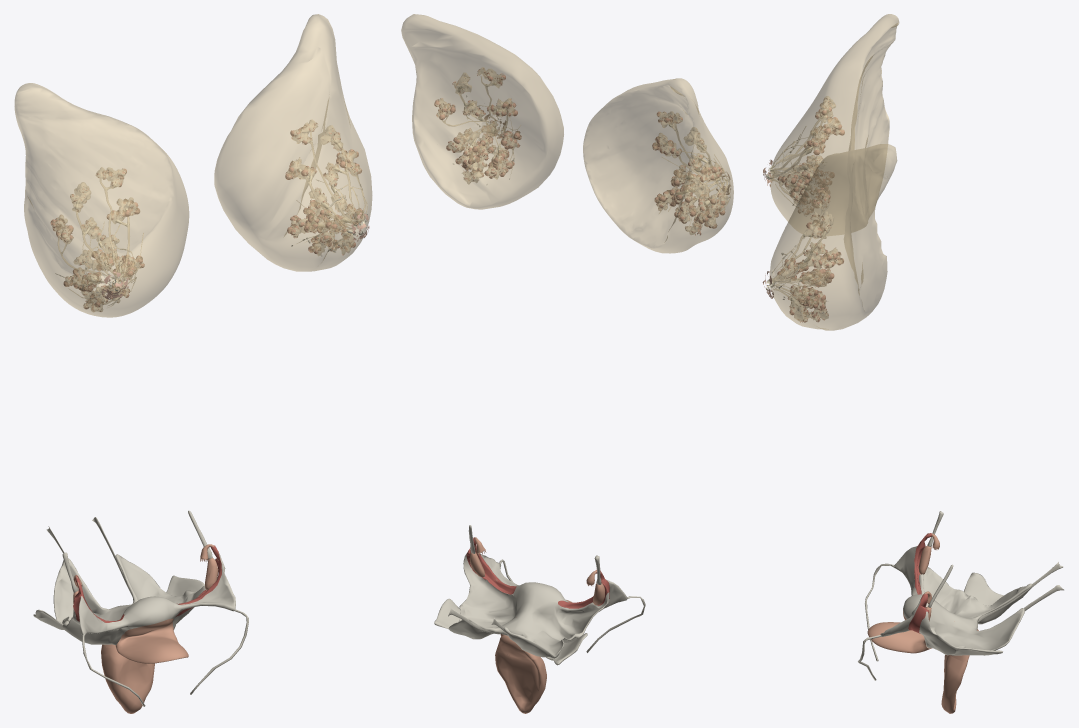
File: adult_female.reproductive.LOD2.glb
3 views of the same model, side by side, from view 1: azimuth 30°, elevation 25°; view 2: azimuth 150°, elevation 25°; view 3: azimuth 270°, elevation 25° (orthographic). The views are drawn at different scales.
Visible parts, largest first — view 1: ADULT.FEMALE.REPRODUCTIVE.MAMMARY_FAT.R, ADULT.FEMALE.REPRODUCTIVE.MAMMARY_FAT.L, ADULT.FEMALE.REPRODUCTIVE.BROAD_LIGAMENT, ADULT.FEMALE.REPRODUCTIVE.VAGINA, ADULT.FEMALE.REPRODUCTIVE.UTEROVESICAL_POUCH, ADULT.FEMALE.REPRODUCTIVE.MAMMARY_LOBES.L, ADULT.FEMALE.REPRODUCTIVE.MAMMARY_LOBES.R; view 2: ADULT.FEMALE.REPRODUCTIVE.MAMMARY_FAT.L, ADULT.FEMALE.REPRODUCTIVE.MAMMARY_FAT.R, ADULT.FEMALE.REPRODUCTIVE.BROAD_LIGAMENT, ADULT.FEMALE.REPRODUCTIVE.VAGINA, ADULT.FEMALE.REPRODUCTIVE.MAMMARY_LOBES.L, ADULT.FEMALE.REPRODUCTIVE.MAMMARY_LOBES.R; view 3: ADULT.FEMALE.REPRODUCTIVE.MAMMARY_FAT.L, ADULT.FEMALE.REPRODUCTIVE.MAMMARY_FAT.R, ADULT.FEMALE.REPRODUCTIVE.BROAD_LIGAMENT, ADULT.FEMALE.REPRODUCTIVE.MAMMARY_LOBES.L, ADULT.FEMALE.REPRODUCTIVE.MAMMARY_LOBES.R, ADULT.FEMALE.REPRODUCTIVE.UTEROVESICAL_POUCH, ADULT.FEMALE.REPRODUCTIVE.VAGINA, ADULT.FEMALE.REPRODUCTIVE.CARDINAL_LIGAMENT_OF_UTERUS.R.
Boxes of the visible parts, <box> form: ADULT.FEMALE.REPRODUCTIVE.MAMMARY_FAT.R: <box>14,83,189,317</box>; ADULT.FEMALE.REPRODUCTIVE.MAMMARY_FAT.L: <box>214,14,372,271</box>; ADULT.FEMALE.REPRODUCTIVE.BROAD_LIGAMENT: <box>53,552,235,645</box>; ADULT.FEMALE.REPRODUCTIVE.VAGINA: <box>101,644,154,713</box>; ADULT.FEMALE.REPRODUCTIVE.UTEROVESICAL_POUCH: <box>115,618,188,663</box>; ADULT.FEMALE.REPRODUCTIVE.MAMMARY_LOBES.L: <box>285,123,362,255</box>; ADULT.FEMALE.REPRODUCTIVE.MAMMARY_LOBES.R: <box>50,168,144,311</box>; ADULT.FEMALE.REPRODUCTIVE.MAMMARY_FAT.L: <box>401,14,563,209</box>; ADULT.FEMALE.REPRODUCTIVE.MAMMARY_FAT.R: <box>583,78,733,253</box>; ADULT.FEMALE.REPRODUCTIVE.BROAD_LIGAMENT: <box>448,552,627,658</box>; ADULT.FEMALE.REPRODUCTIVE.VAGINA: <box>495,651,546,713</box>; ADULT.FEMALE.REPRODUCTIVE.MAMMARY_LOBES.L: <box>434,68,521,180</box>; ADULT.FEMALE.REPRODUCTIVE.MAMMARY_LOBES.R: <box>652,111,725,235</box>; ADULT.FEMALE.REPRODUCTIVE.MAMMARY_FAT.L: <box>769,144,897,330</box>; ADULT.FEMALE.REPRODUCTIVE.MAMMARY_FAT.R: <box>770,14,899,235</box>; ADULT.FEMALE.REPRODUCTIVE.BROAD_LIGAMENT: <box>880,546,1031,655</box>; ADULT.FEMALE.REPRODUCTIVE.MAMMARY_LOBES.L: <box>777,188,843,322</box>; ADULT.FEMALE.REPRODUCTIVE.MAMMARY_LOBES.R: <box>777,98,844,214</box>; ADULT.FEMALE.REPRODUCTIVE.UTEROVESICAL_POUCH: <box>867,611,932,653</box>; ADULT.FEMALE.REPRODUCTIVE.VAGINA: <box>941,655,967,713</box>; ADULT.FEMALE.REPRODUCTIVE.CARDINAL_LIGAMENT_OF_UTERUS.R: <box>963,572,1003,605</box>.
Bounding box in the file's own units: 0.2889 × 0.5806 × 0.2495.
